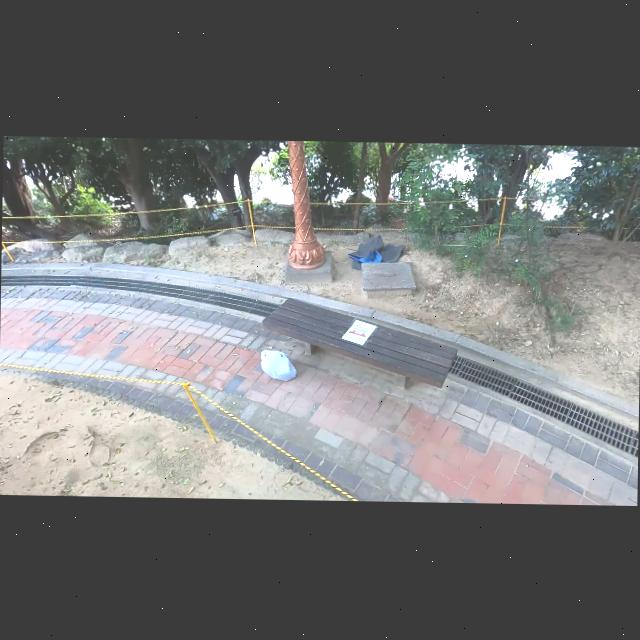trash: (346, 230, 406, 272), (258, 348, 298, 381)
